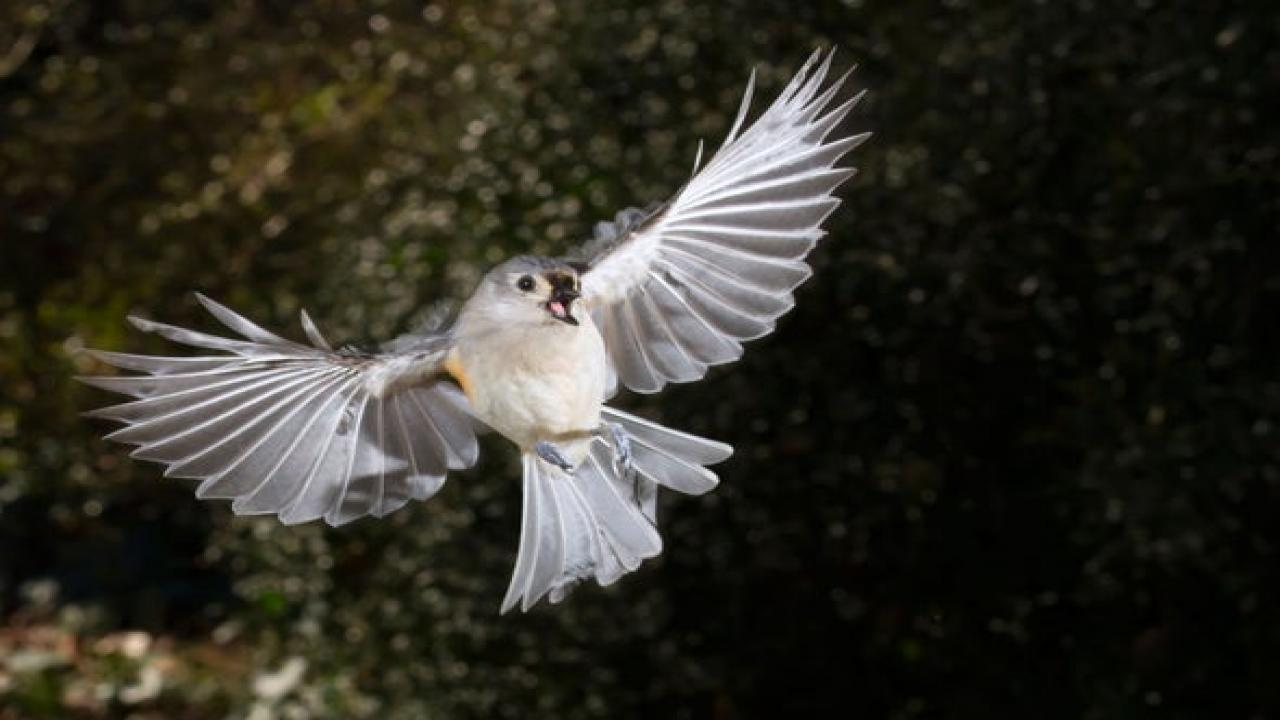Bird: (54, 33, 892, 623)
